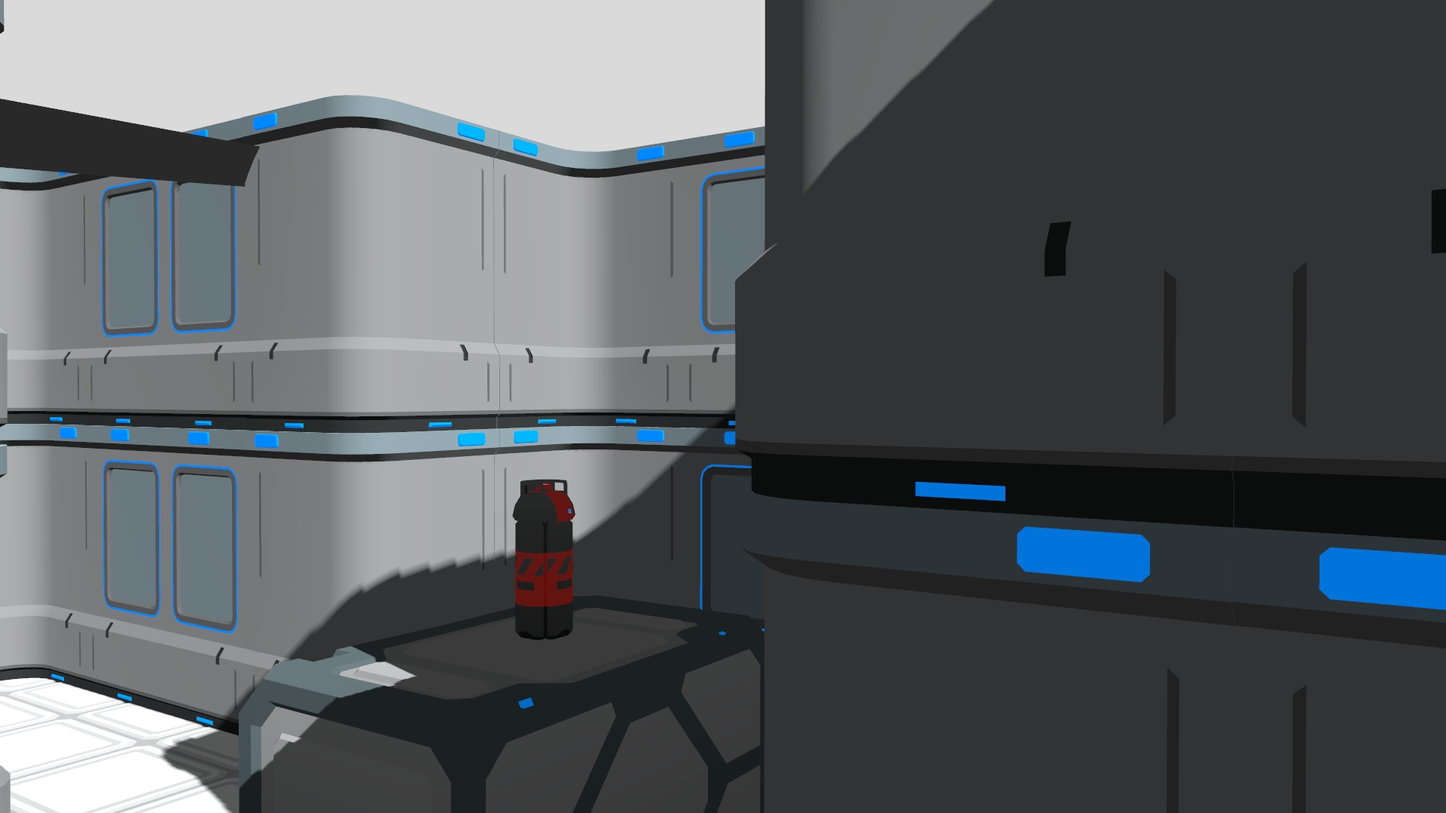red_barrel: (509, 476, 581, 645)
